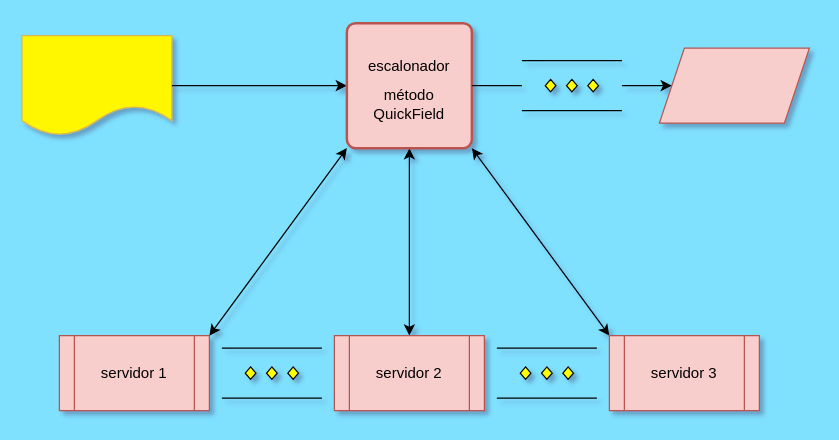
Some shapes in this 839 by 440 pixel diagram are drawn without their labels. The shapes that lost their labels are listed below. From the top down, each one's centre as x and y in pixels, then its label:
At (x=96, y=85): "JSON".
At (x=733, y=85): "thread calc".
